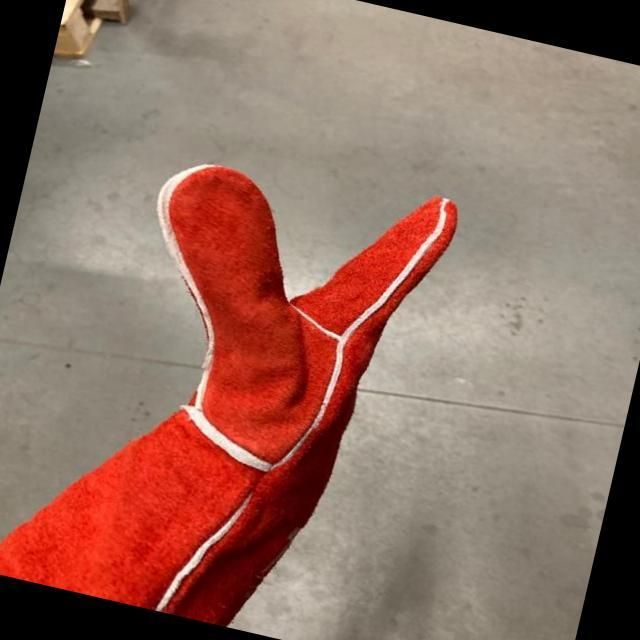glove: (40, 155, 474, 582)
